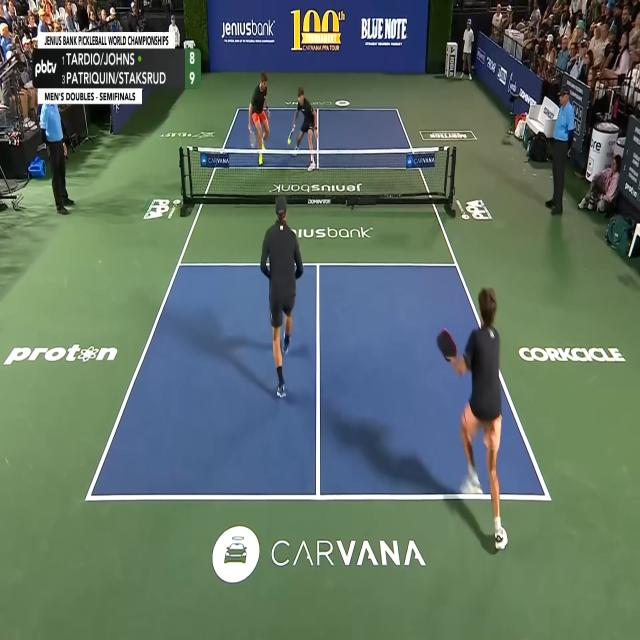ball: (287, 137, 291, 145)
